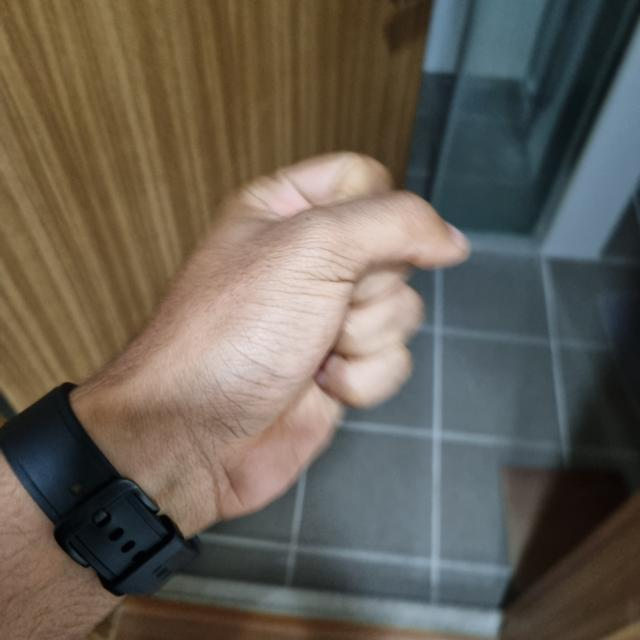Rock: (80, 151, 470, 530)
